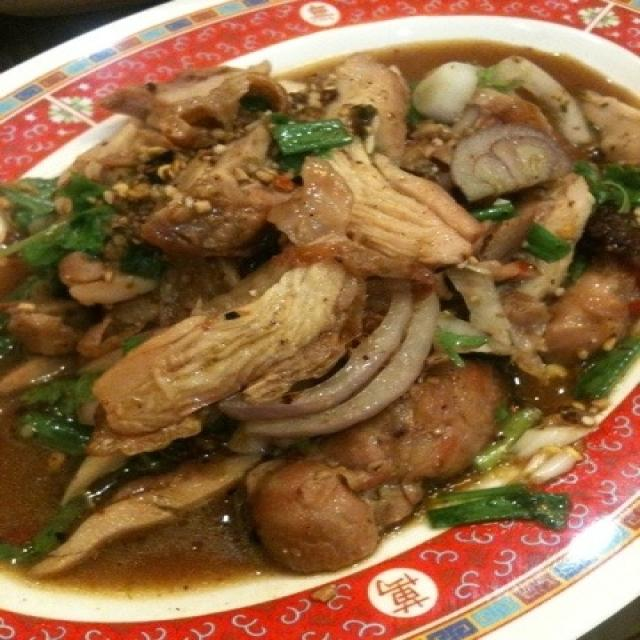鸡肉料理 含炸鸡: (21, 48, 626, 597)
